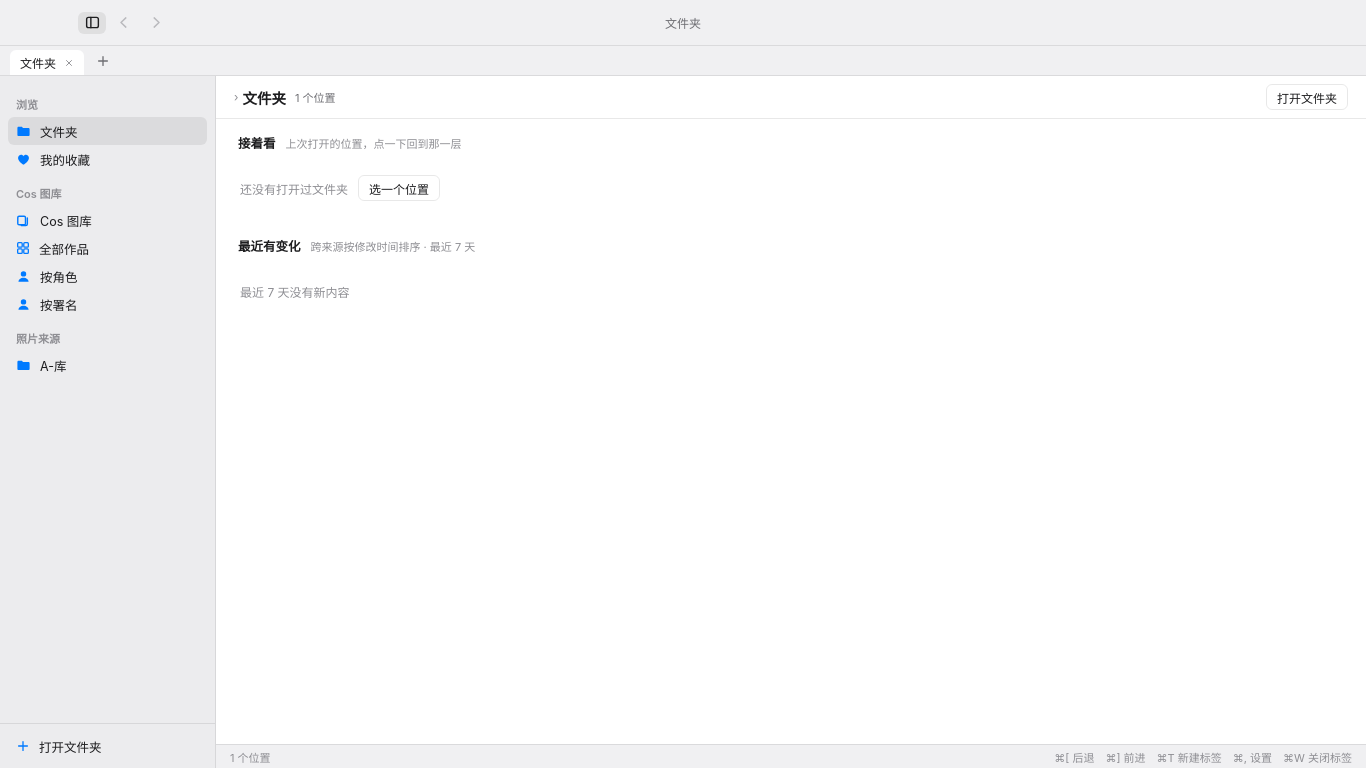
Test: App · Esc 分层（按页面层级，B 方案） › 文件夹页按层级逐层退：子目录 → 来源根 → 文件夹页
The width and height of the screenshot is (1366, 768).
Expected: the element showing "文件夹" is shown, left=0, top=46, right=1365, bottom=76
Expected: the text "A-库" is shown, left=40, top=356, right=66, bottom=374
Step 1. Click the button "A-库" → (99, 365), box left=8, top=351, right=190, bottom=379
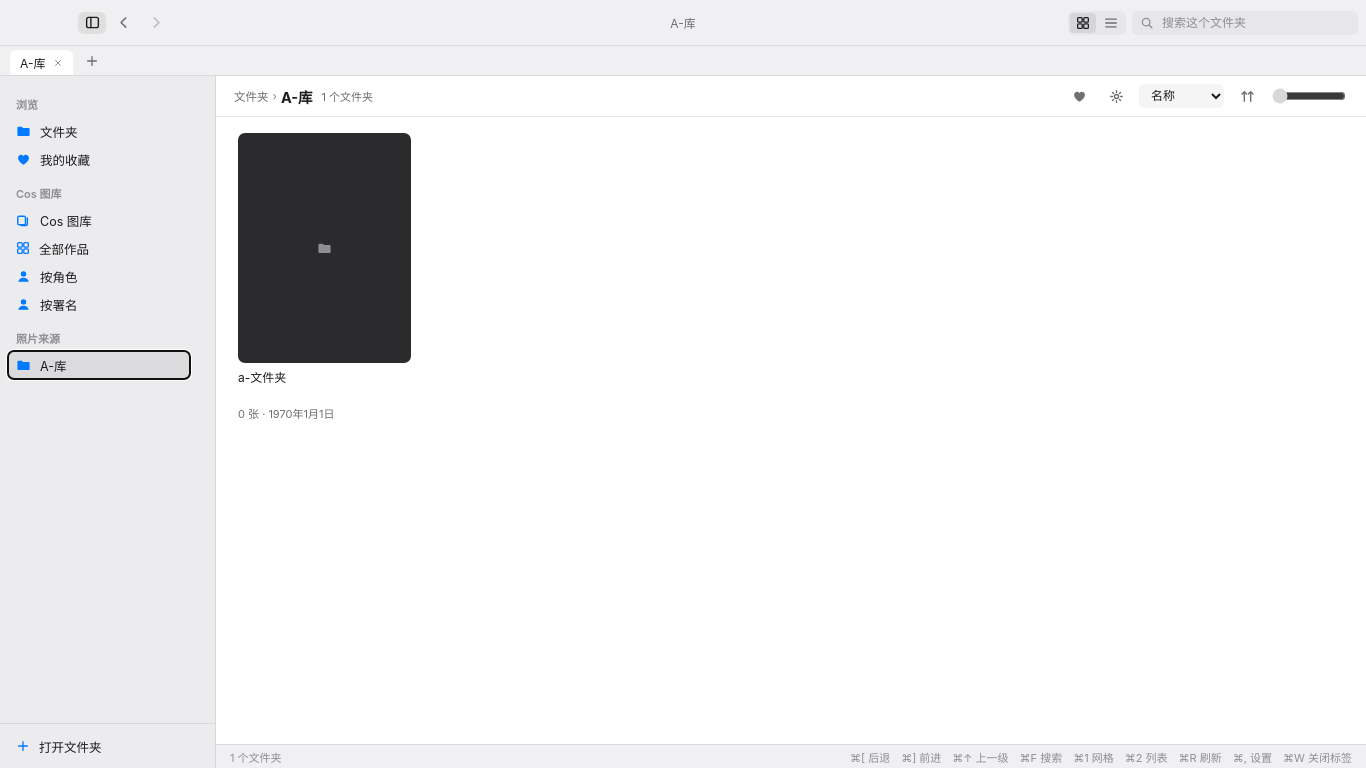
Now the navigation bar named "面包屑" shows "A-库", box left=281, top=88, right=312, bottom=106
Now the element with class "grid-card" is shown
Step 2. Click the element with class "grid-card" → (324, 277), box left=238, top=133, right=411, bottom=421
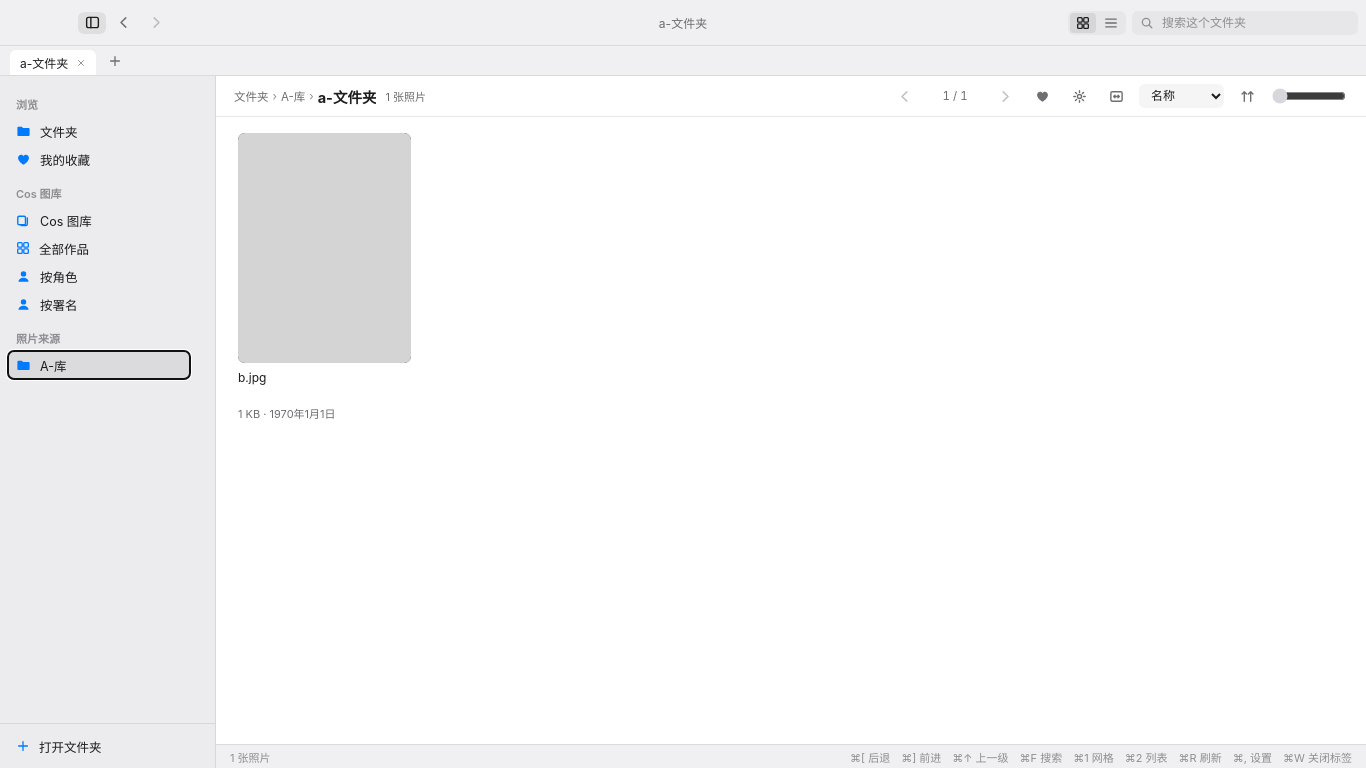
Now the navigation bar named "面包屑" shows "a-文件夹", box left=318, top=88, right=376, bottom=106
Step 3. Press Escape
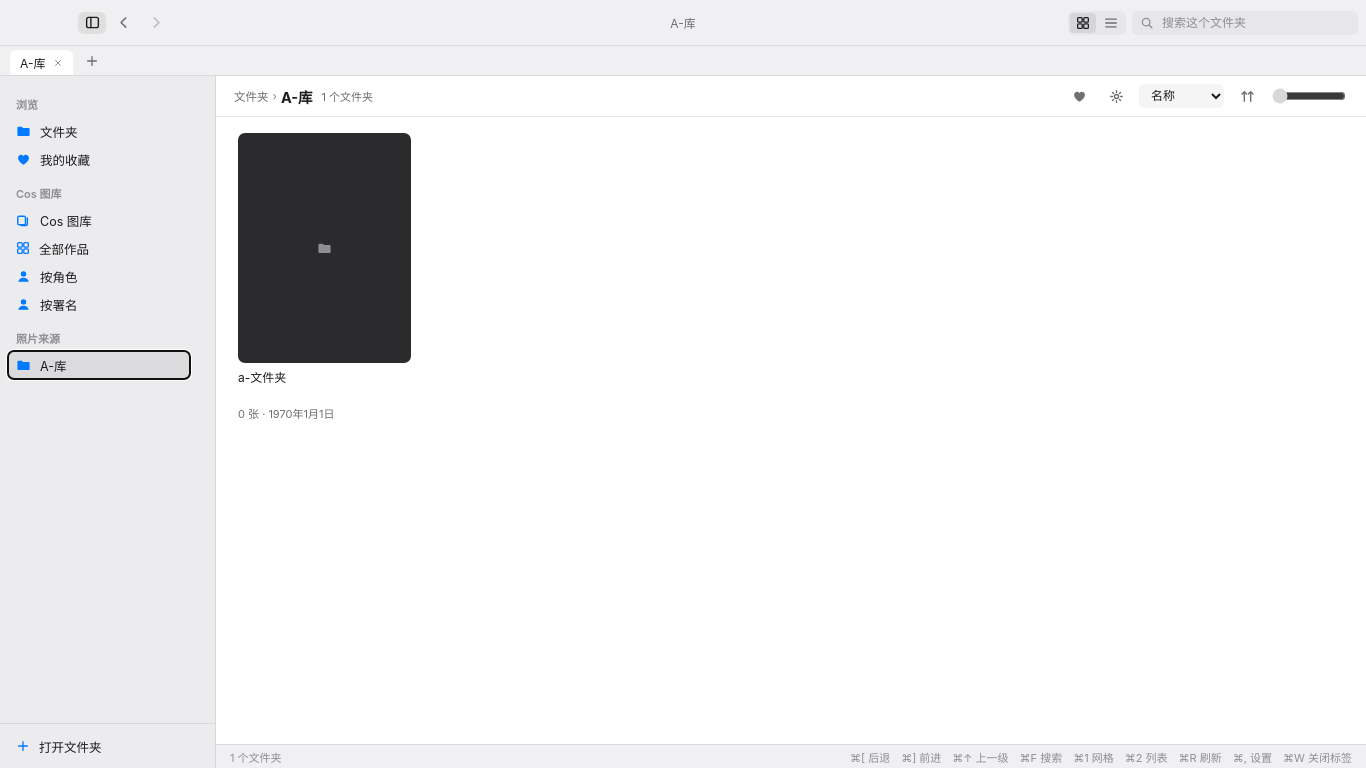
Expected: the navigation bar "面包屑" does not show "a-文件夹"
Now the navigation bar named "面包屑" shows "A-库", box left=281, top=88, right=312, bottom=106
Step 4. Press Escape
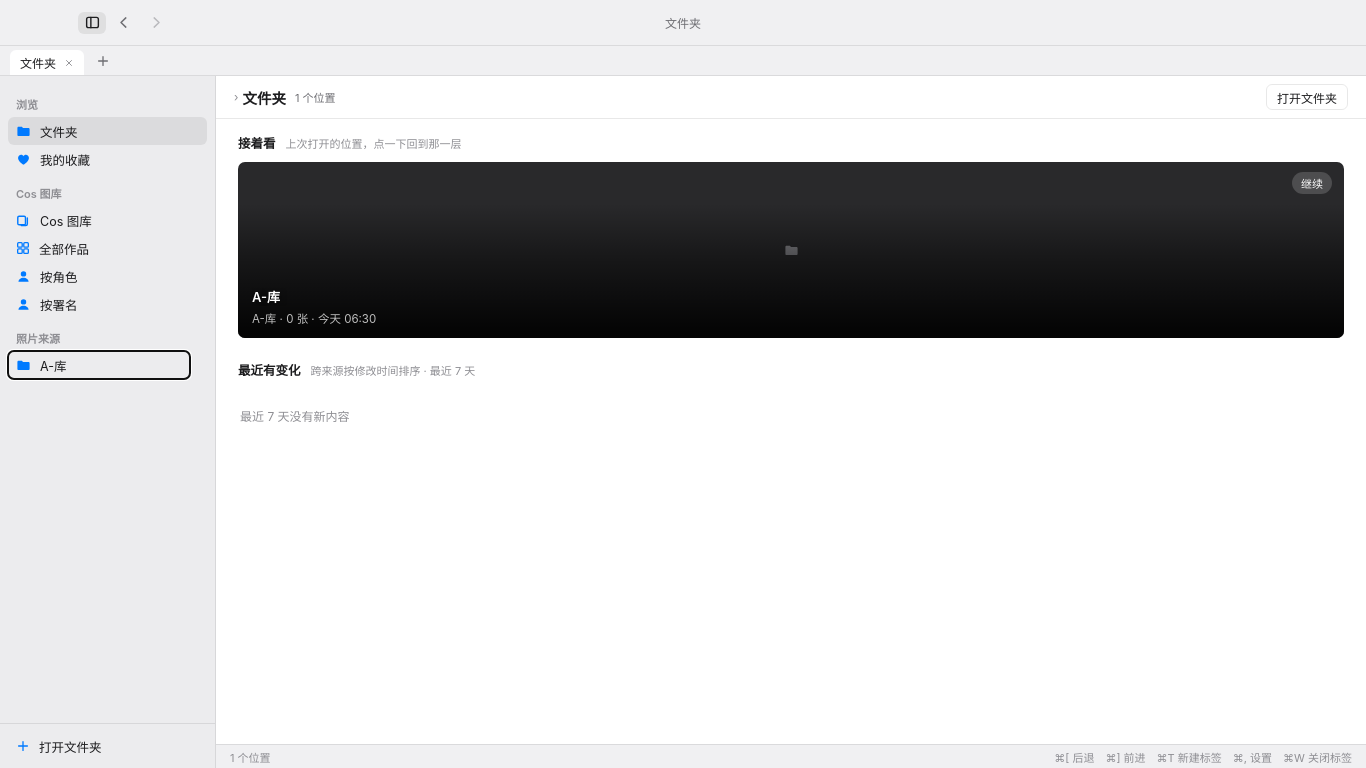
Now the element with class "roots-body" is shown, box left=238, top=136, right=1344, bottom=424
